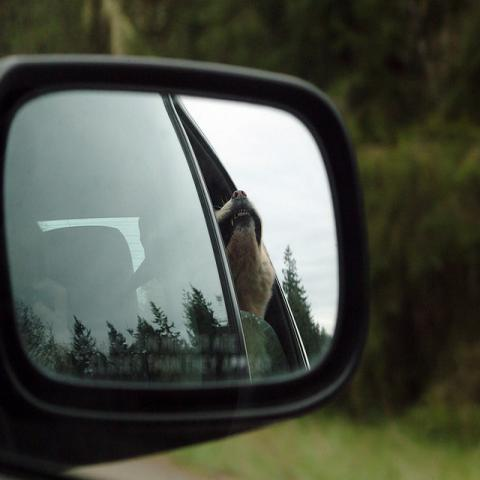car: (0, 55, 373, 479)
